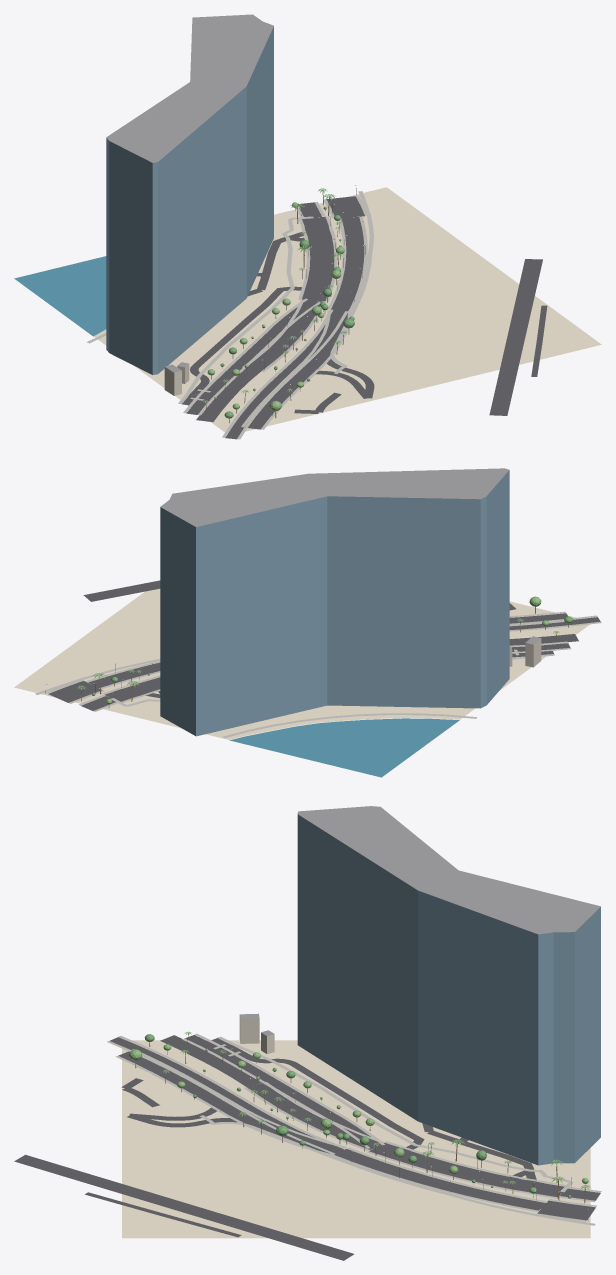
The model's file is tile_4_5.glb.
3 renders of one model, top to bottom at view 1: azimuth 30°, elevation 25°; view 2: azimuth 150°, elevation 25°; view 3: azimuth 270°, elevation 25°, orthographic. The views are drawn at different scales.
Parts seen in each view (by area): view 1: nature_ground, buildings_glass_blue, roads_asphalt, buildings_roof, roads_sidewalk, nature_water, nature_foliage_b, buildings_concrete_warm, nature_foliage_a; view 2: buildings_glass_blue, nature_ground, buildings_roof, nature_water, roads_asphalt, roads_sidewalk, buildings_concrete_warm; view 3: buildings_glass_blue, nature_ground, roads_asphalt, buildings_roof, roads_sidewalk, nature_foliage_b, buildings_concrete_warm, nature_foliage_a.
Part boxes in pixels (x1,y1,x2,y2): nature_ground: [94, 187, 601, 432]; buildings_glass_blue: [106, 26, 273, 374]; roads_asphalt: [182, 196, 547, 439]; buildings_roof: [106, 14, 273, 372]; roads_sidewalk: [87, 191, 373, 439]; nature_water: [14, 256, 106, 336]; nature_foliage_b: [207, 202, 344, 411]; buildings_concrete_warm: [164, 364, 189, 395]; nature_foliage_a: [220, 206, 354, 418]; buildings_glass_blue: [160, 470, 509, 736]; nature_ground: [14, 588, 589, 739]; buildings_roof: [160, 468, 540, 650]; nature_water: [229, 718, 459, 777]; roads_asphalt: [48, 580, 600, 710]; roads_sidewalk: [35, 611, 601, 738]; buildings_concrete_warm: [509, 638, 541, 667]; buildings_glass_blue: [297, 814, 600, 1165]; nature_ground: [122, 1040, 590, 1238]; roads_asphalt: [14, 1035, 600, 1260]; buildings_roof: [240, 806, 600, 1035]; roads_sidewalk: [107, 1033, 601, 1225]; nature_foliage_b: [129, 1044, 588, 1187]; buildings_concrete_warm: [239, 1015, 274, 1053]; nature_foliage_a: [144, 1034, 571, 1198].
Bounding box in the file's own units: 287 × 136 × 314.
